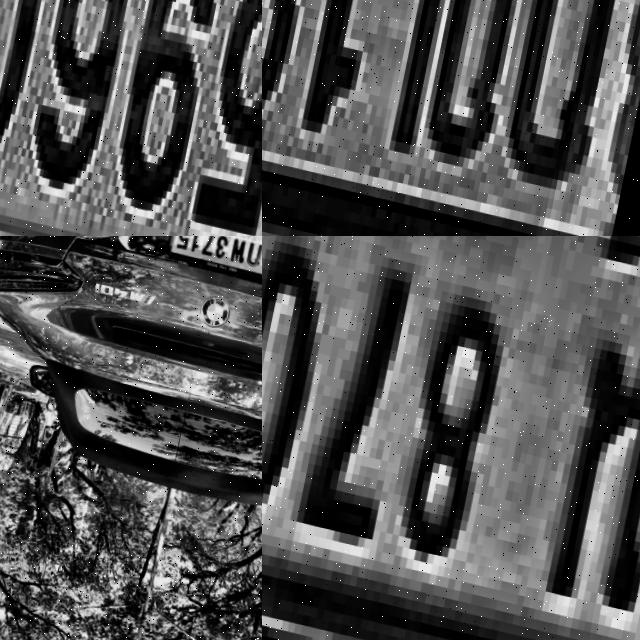license-plate: (262, 236, 640, 640), (262, 0, 640, 236), (0, 0, 262, 236), (166, 236, 262, 277)
